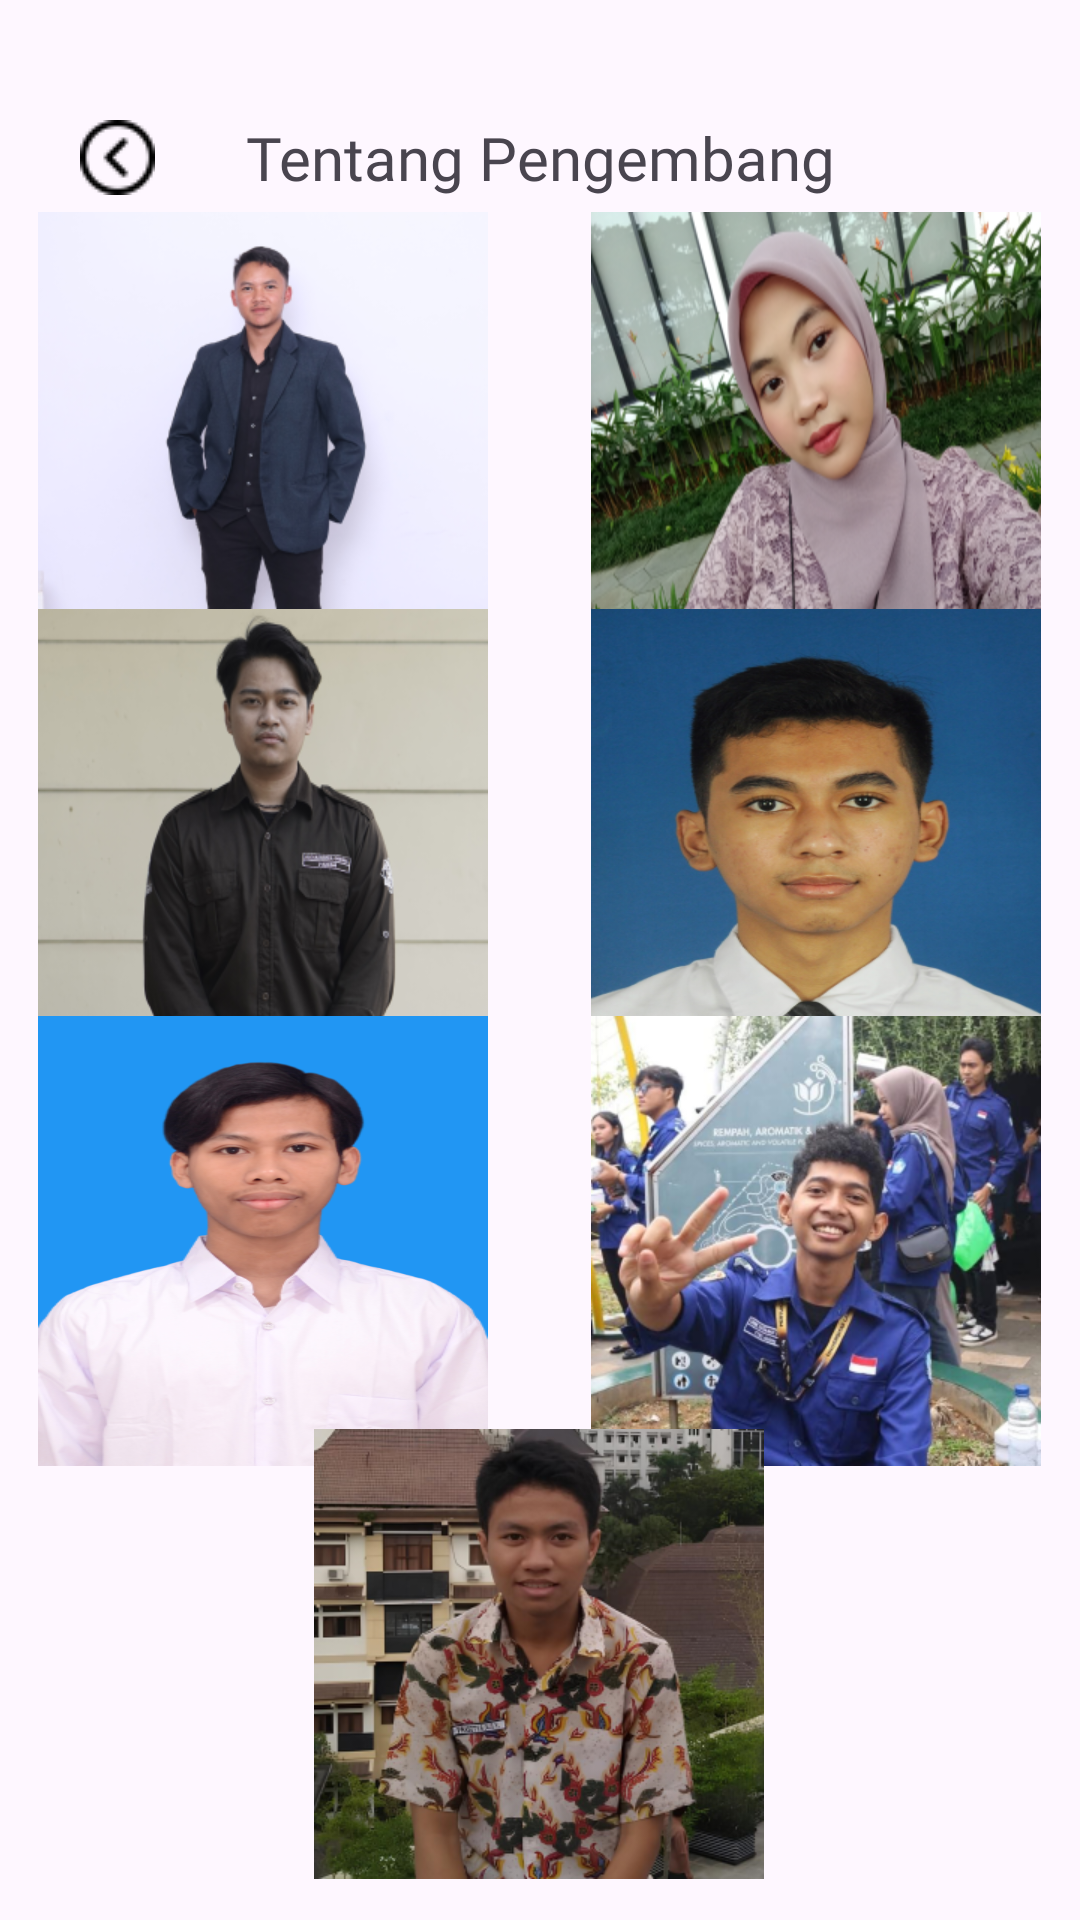

Where icons sit on this 1080*1920 app screen, as (x1, y1, x2, y2):
previous: (80, 120, 155, 195)
